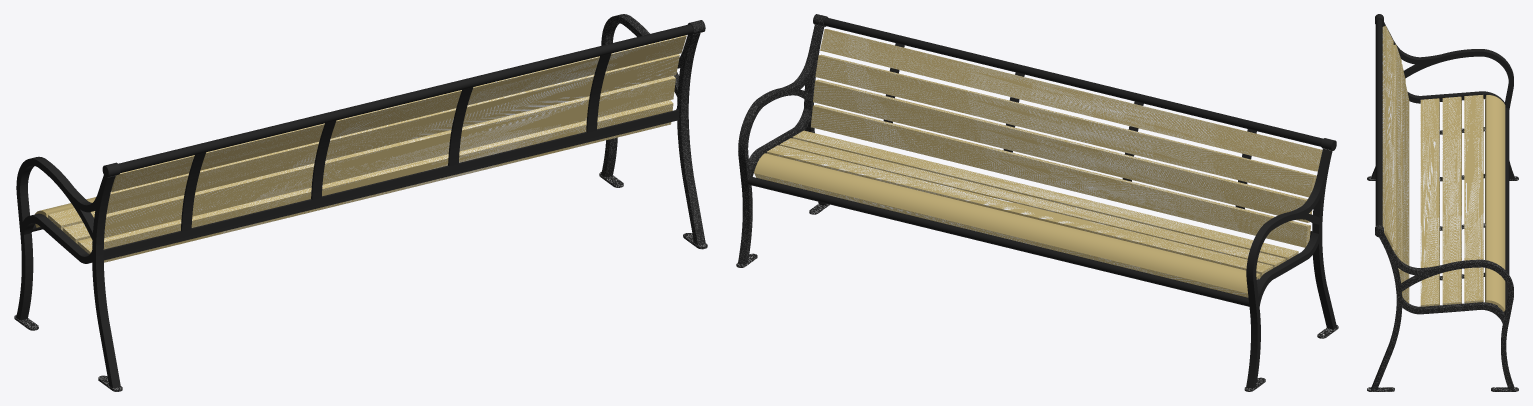
3 renders of one model, left to right at view 1: azimuth 30°, elevation 25°; view 2: azimuth 150°, elevation 25°; view 3: azimuth 270°, elevation 25°, orthographic. The views are drawn at different scales.
Parts seen in each view (by area): view 1: mesh17_mesh17-geometry, mesh16_mesh16-geometry, mesh1_mesh1-geometry, mesh15_mesh15-geometry, mesh18_mesh18-geometry, mesh31_mesh31-geometry, mesh11_mesh11-geometry, mesh35_mesh35-geometry; view 2: mesh22_mesh22-geometry, mesh16_mesh16-geometry, mesh15_mesh15-geometry, mesh18_mesh18-geometry, mesh17_mesh17-geometry, mesh21_mesh21-geometry, mesh19_mesh19-geometry, mesh20_mesh20-geometry, mesh31_mesh31-geometry, mesh13_mesh13-geometry, mesh11_mesh11-geometry, mesh35_mesh35-geometry; view 3: mesh22_mesh22-geometry, mesh21_mesh21-geometry, mesh20_mesh20-geometry, mesh19_mesh19-geometry, mesh35_mesh35-geometry, mesh15_mesh15-geometry, mesh31_mesh31-geometry, mesh16_mesh16-geometry, mesh11_mesh11-geometry, mesh17_mesh17-geometry, mesh18_mesh18-geometry, mesh13_mesh13-geometry.
Part boxes in pixels (x1,y1,x2,y2): mesh17_mesh17-geometry: (104, 75, 675, 237); mesh16_mesh16-geometry: (106, 54, 679, 213); mesh1_mesh1-geometry: (103, 53, 679, 260); mesh15_mesh15-geometry: (111, 35, 686, 191); mesh18_mesh18-geometry: (103, 100, 673, 262); mesh31_mesh31-geometry: (16, 156, 120, 388); mesh11_mesh11-geometry: (118, 24, 693, 172); mesh35_mesh35-geometry: (601, 14, 705, 245); mesh22_mesh22-geometry: (754, 153, 1260, 297); mesh16_mesh16-geometry: (815, 54, 1316, 197); mesh15_mesh15-geometry: (820, 29, 1322, 171); mesh18_mesh18-geometry: (811, 104, 1310, 247); mesh17_mesh17-geometry: (813, 79, 1312, 222); mesh21_mesh21-geometry: (766, 145, 1272, 276); mesh19_mesh19-geometry: (792, 130, 1298, 260); mesh20_mesh20-geometry: (779, 138, 1285, 268); mesh31_mesh31-geometry: (1246, 148, 1336, 388); mesh13_mesh13-geometry: (748, 176, 1249, 306); mesh11_mesh11-geometry: (824, 17, 1322, 146); mesh35_mesh35-geometry: (738, 24, 827, 264); mesh22_mesh22-geometry: (1485, 95, 1505, 311); mesh21_mesh21-geometry: (1464, 95, 1483, 303); mesh20_mesh20-geometry: (1442, 96, 1461, 304); mesh19_mesh19-geometry: (1420, 98, 1439, 306); mesh35_mesh35-geometry: (1371, 233, 1514, 390); mesh15_mesh15-geometry: (1382, 25, 1393, 247); mesh31_mesh31-geometry: (1371, 22, 1514, 179); mesh16_mesh16-geometry: (1392, 44, 1401, 260); mesh11_mesh11-geometry: (1375, 19, 1382, 225); mesh17_mesh17-geometry: (1398, 64, 1405, 283); mesh18_mesh18-geometry: (1402, 84, 1409, 303); mesh13_mesh13-geometry: (1504, 107, 1509, 312).
Size of the model in its own units: 0.9075 by 0.3212 by 0.2707.
